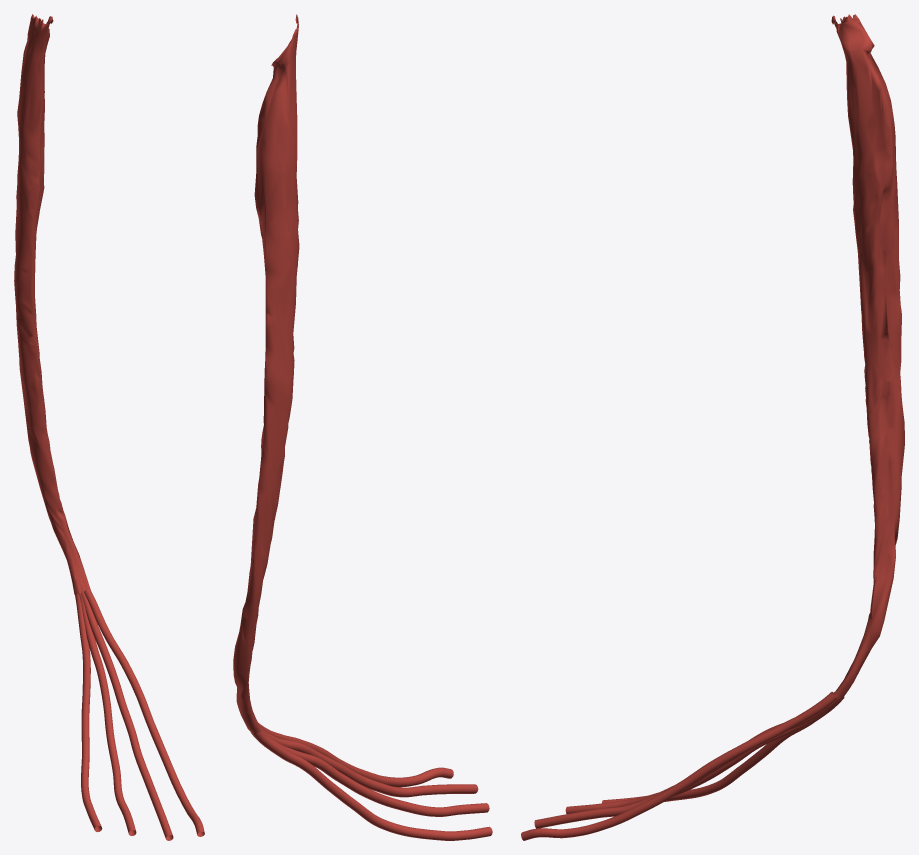
The model's file is musculos-extensor-digitorum-longus-r.glb.
The picture shows the model from 3 angles, left to right: view 1: azimuth 30°, elevation 25°; view 2: azimuth 150°, elevation 25°; view 3: azimuth 270°, elevation 25°; orthographic projection. The views are drawn at different scales.
Parts seen in each view (by area): view 1: Extensor digitorum longus.r, Tendon of extensor digitorum longus.r; view 2: Extensor digitorum longus.r, Tendon of extensor digitorum longus.r; view 3: Extensor digitorum longus.r, Tendon of extensor digitorum longus.r.
Boxes of the visible parts, x1,y1,x2,y2 form: Extensor digitorum longus.r: [14, 14, 90, 594]; Tendon of extensor digitorum longus.r: [75, 588, 204, 840]; Extensor digitorum longus.r: [233, 14, 299, 732]; Tendon of extensor digitorum longus.r: [250, 722, 492, 840]; Extensor digitorum longus.r: [831, 14, 904, 699]; Tendon of extensor digitorum longus.r: [521, 692, 844, 840].
Bounding box in the file's own units: 0.0571 × 0.4057 × 0.1716.
